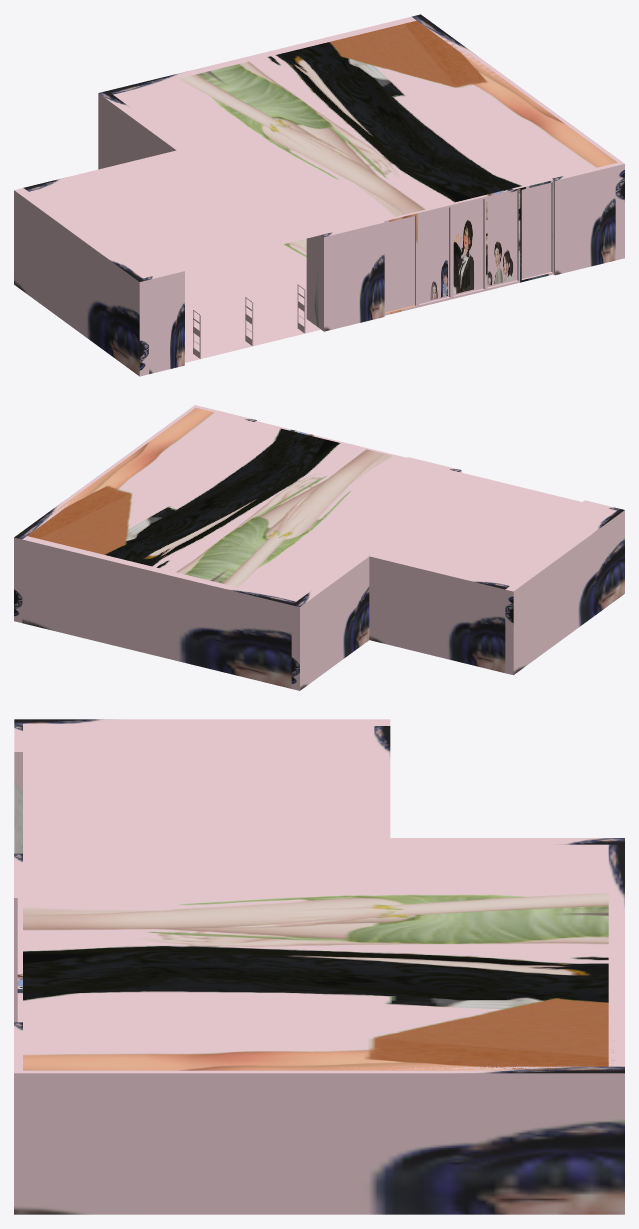
File: (고스)사계 SHOP.fbx
3 renders of one model, top to bottom at view 1: azimuth 30°, elevation 25°; view 2: azimuth 150°, elevation 25°; view 3: azimuth 270°, elevation 25°, orthographic. The views are drawn at different scales.
Parts seen in each view (by area): view 1: Line017.001, Box895, Box906.001, Line017, Box903, Box905, Box887, Box904, Box883, Box900, Box890, Box907 (+5 smaller); view 2: Line017.001, Box900, Box888, Box895, Box887, Box883; view 3: Line017.001, Box883, Box900, Box895, Box888, Box887, Box904, Box903.
Boxes of the visible parts, left/top/right/bottom form: Line017.001: left=23, top=20, right=617, bottom=278; Box895: left=14, top=188, right=148, bottom=376; Box906.001: left=385, top=183, right=550, bottom=310; Line017: left=182, top=238, right=320, bottom=362; Box903: left=318, top=220, right=384, bottom=331; Box905: left=552, top=164, right=615, bottom=275; Box887: left=98, top=91, right=190, bottom=169; Box904: left=146, top=269, right=184, bottom=374; Box883: left=412, top=14, right=624, bottom=260; Box900: left=108, top=16, right=416, bottom=94; Box890: left=306, top=235, right=318, bottom=327; Box907: left=416, top=203, right=451, bottom=307; Line017.001: left=27, top=408, right=616, bottom=601; Box900: left=22, top=536, right=295, bottom=688; Box888: left=369, top=553, right=509, bottom=672; Box895: left=505, top=508, right=624, bottom=675; Box887: left=291, top=551, right=373, bottom=690; Box883: left=14, top=405, right=202, bottom=622; Line017.001: left=23, top=723, right=614, bottom=1070; Box883: left=14, top=1066, right=624, bottom=1214; Box900: left=608, top=844, right=624, bottom=1066; Box895: left=14, top=719, right=390, bottom=725; Box888: left=374, top=726, right=390, bottom=837; Box887: left=374, top=838, right=624, bottom=844; Box904: left=14, top=726, right=22, bottom=853; Box903: left=14, top=853, right=22, bottom=1022.
Bounding box in the file's own units: 1259 × 235 × 917.
